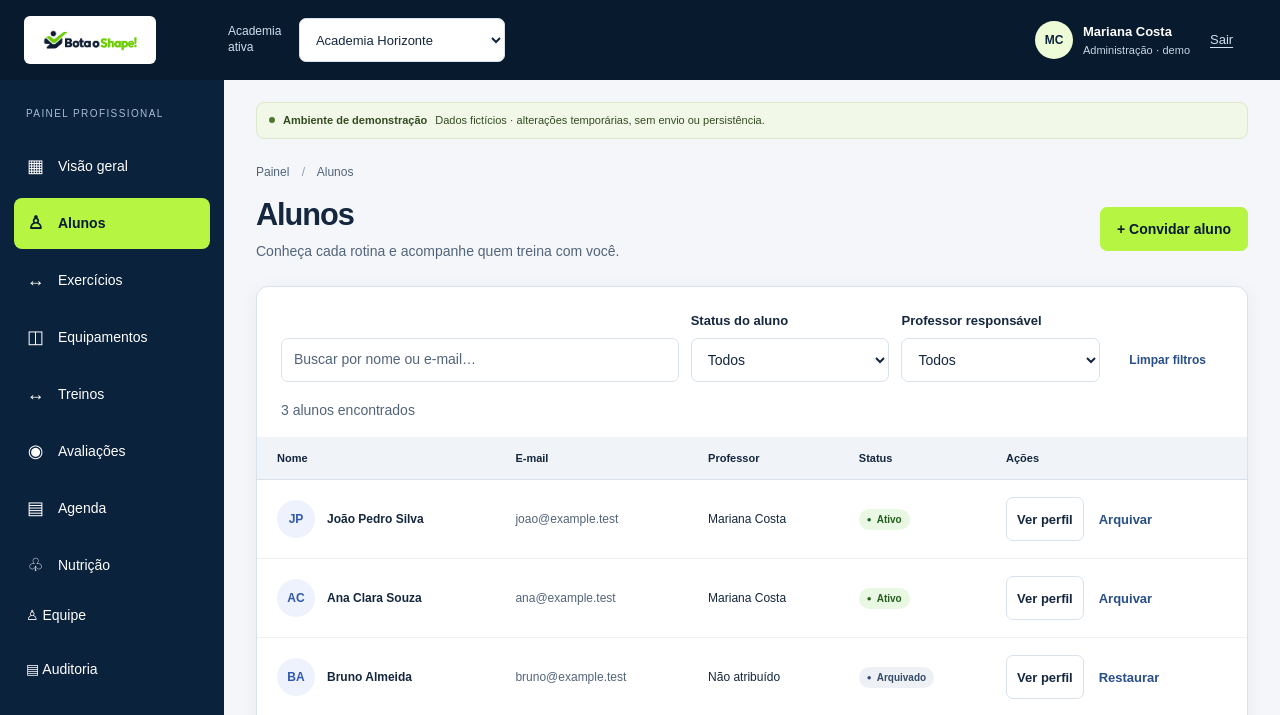
alunos › filtra por nome e status e permite limpar os filtros
Type "ana" into the search field named "Buscar alunos" at (480, 360), box [281,338,679,382]
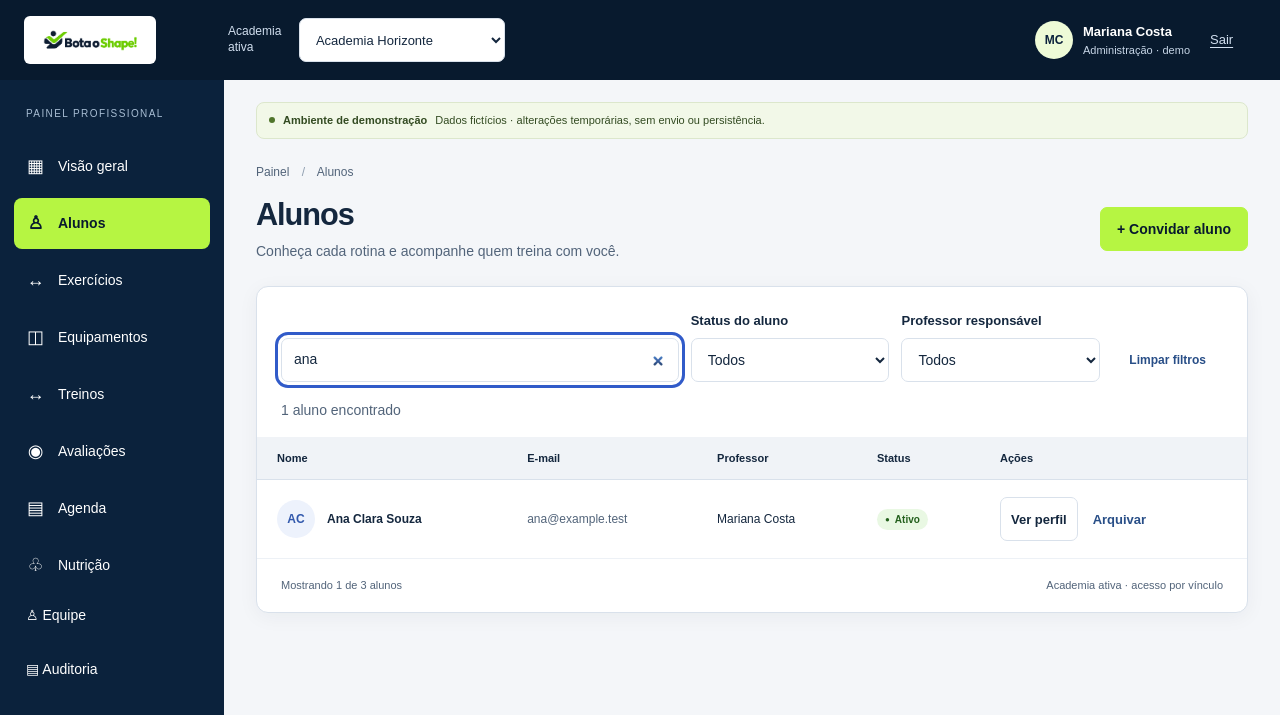
Expected: the link "AC Ana Clara Souza" is shown, [277,497,422,541]
Expected: the link "João Pedro Silva" is gone
Click the button "Limpar filtros" at (1168, 360), box [1112,338,1223,382]
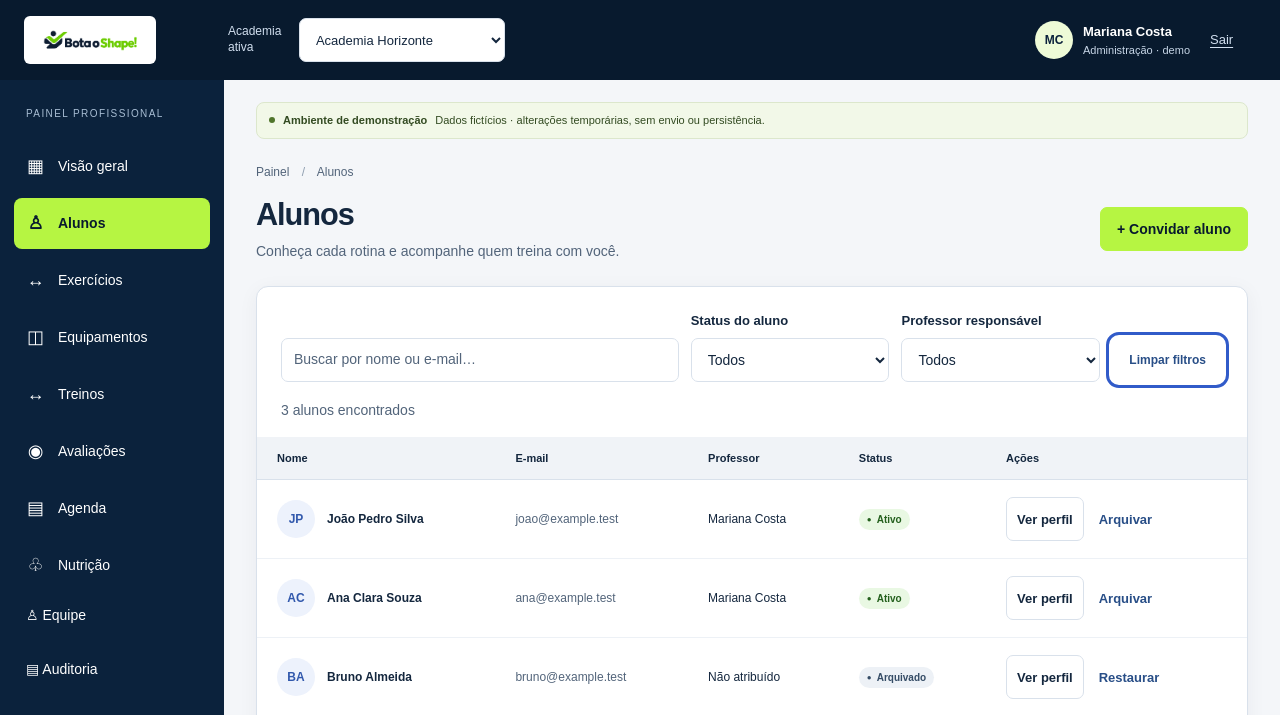
Select "Arquivados" in the dropdown labelled "Status do aluno" at (790, 360), box [691,338,890,382]
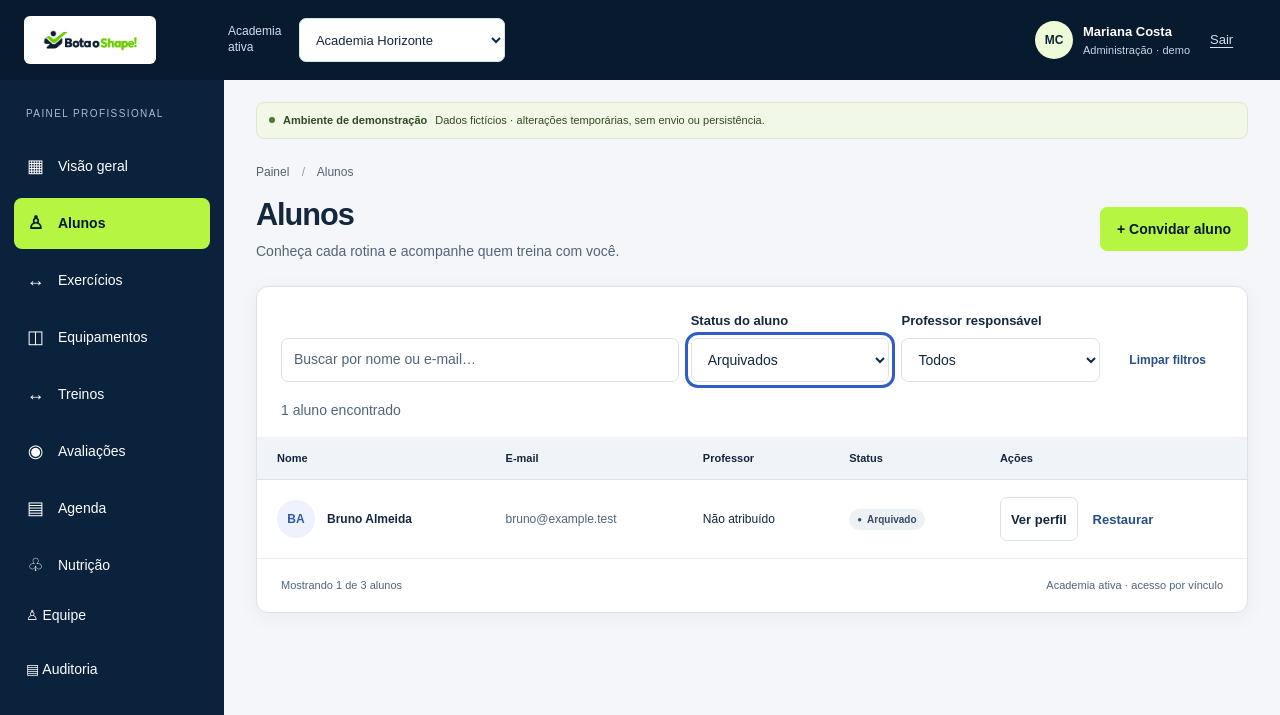
Expected: the link "BA Bruno Almeida" is shown, [277,497,412,541]
Expected: the link "Ana Clara Souza" is gone
Type "inexistente" into the search field named "Buscar alunos" at (480, 360), box [281,338,679,382]
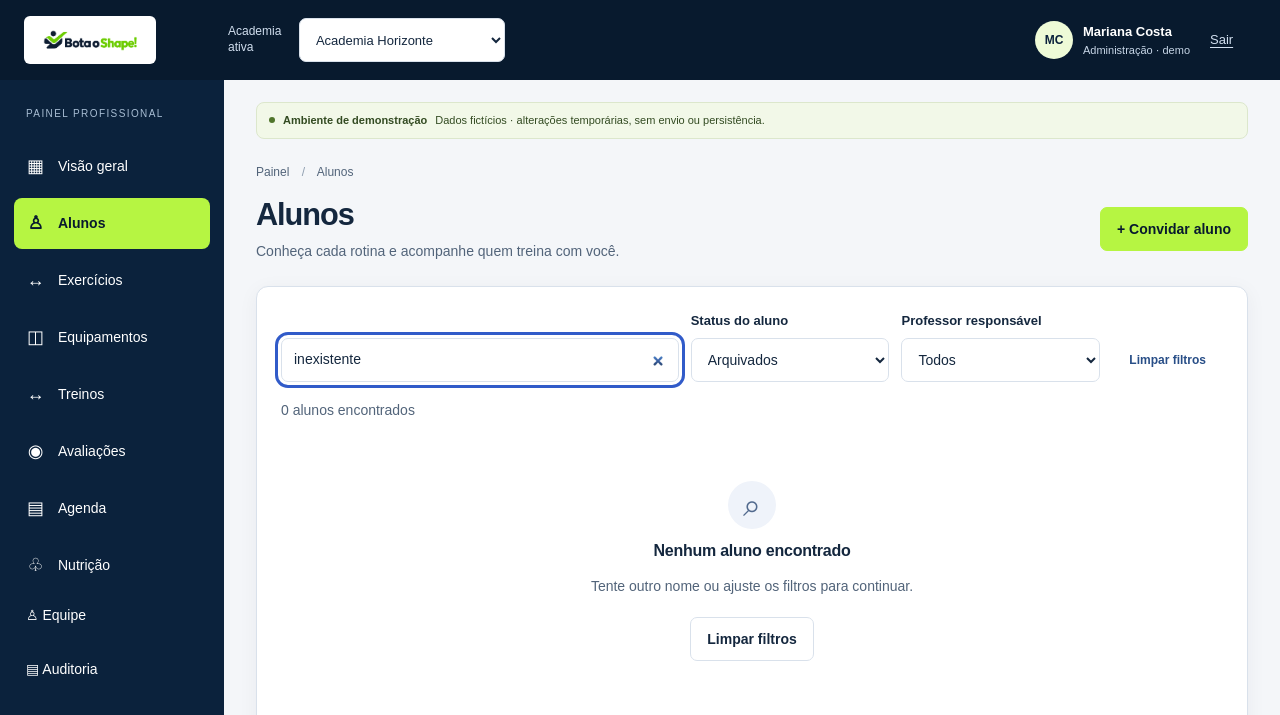
Expected: the heading "Nenhum aluno encontrado" is shown, [653,542,851,559]
